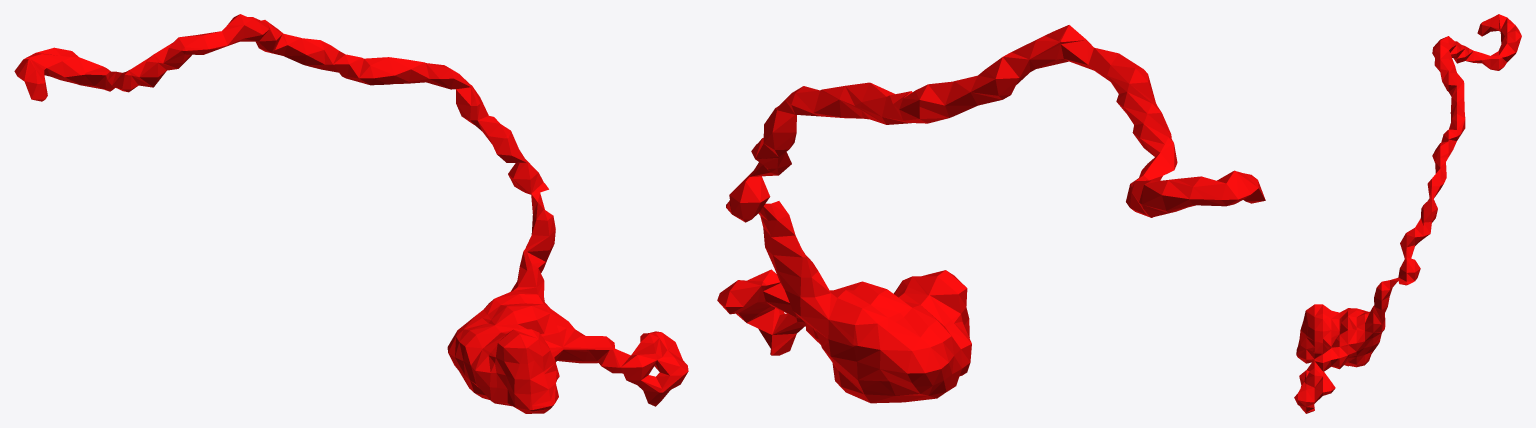
File: motB_coarse.dae
3 views of the same model, side by side, from view 1: azimuth 30°, elevation 25°; view 2: azimuth 150°, elevation 25°; view 3: azimuth 270°, elevation 25° (orthographic). The views are drawn at different scales.
Parts seen in each view (by area): view 1: motB; view 2: motB; view 3: motB.
Part boxes in pixels (bbox=[...]): motB: bbox=[14, 14, 688, 413]; motB: bbox=[717, 25, 1265, 403]; motB: bbox=[1294, 14, 1521, 413].
Size of the model in its own units: 230 by 165 by 128.
